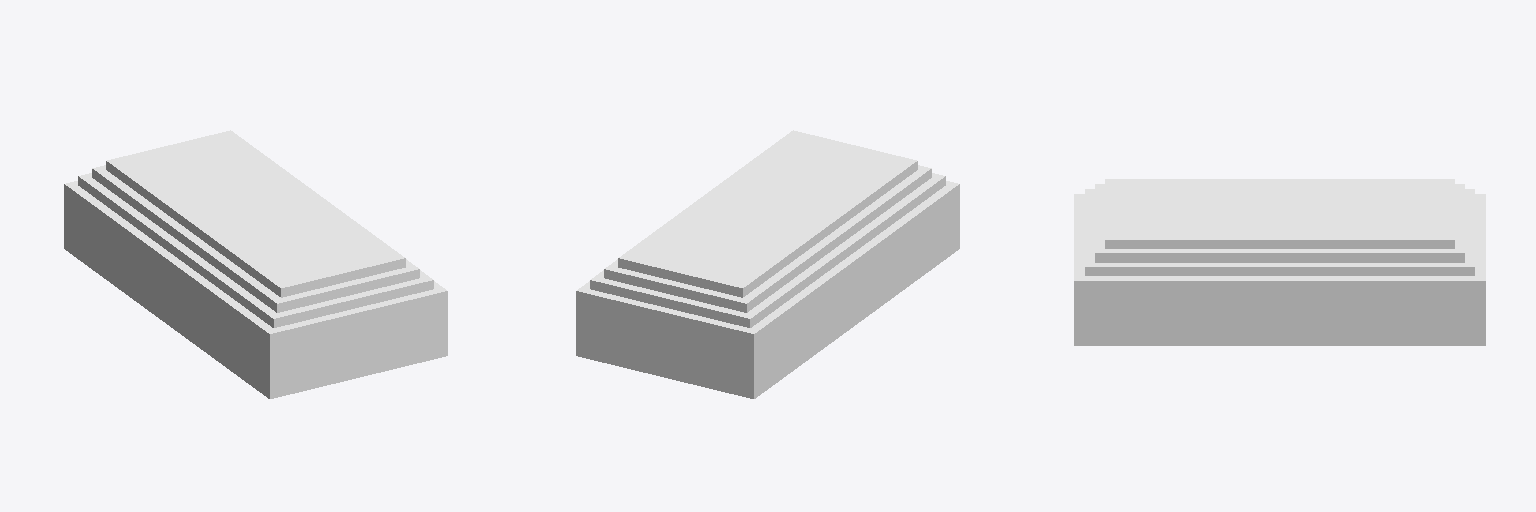
The model's file is GoldBar.obj.
The picture shows the model from 3 angles: view 1: azimuth 30°, elevation 25°; view 2: azimuth 150°, elevation 25°; view 3: azimuth 270°, elevation 25°; orthographic projection.
Parts seen in each view (by area): view 1: object 1; view 2: object 1; view 3: object 1.
Boxes of the visible parts, box(x1,y1,x2,y2) form: object 1: box(64, 130, 447, 398); object 1: box(576, 130, 959, 398); object 1: box(1074, 179, 1485, 345).
Bounding box in the file's own units: 2 × 1 × 4.